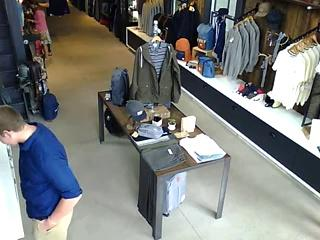Normal: (0, 105, 83, 240), (22, 0, 52, 61)
